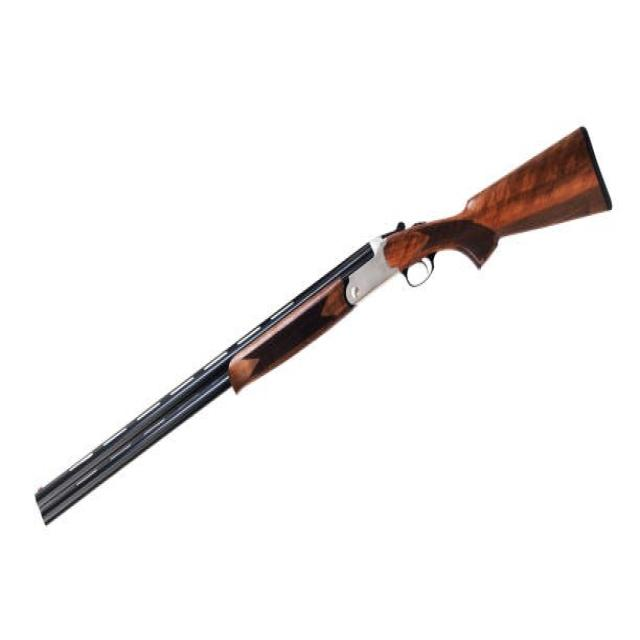rifle: (29, 116, 619, 526)
